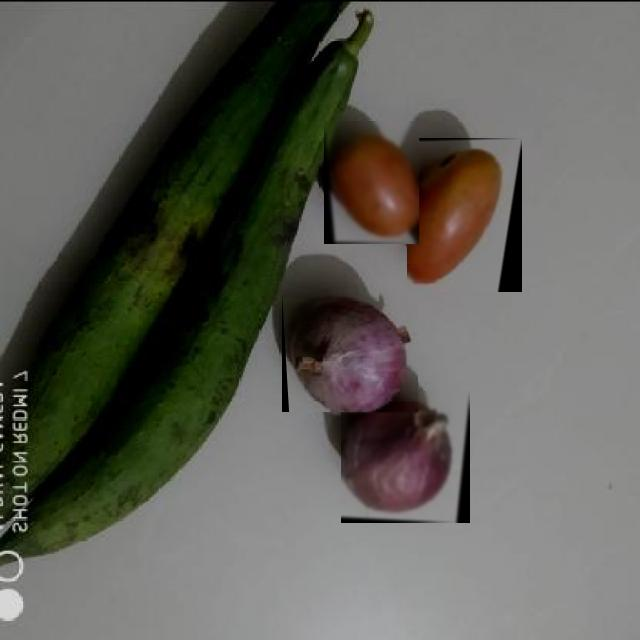onion: (341, 391, 470, 523), (282, 292, 418, 412)
tomato: (407, 138, 522, 292), (324, 121, 419, 244)
